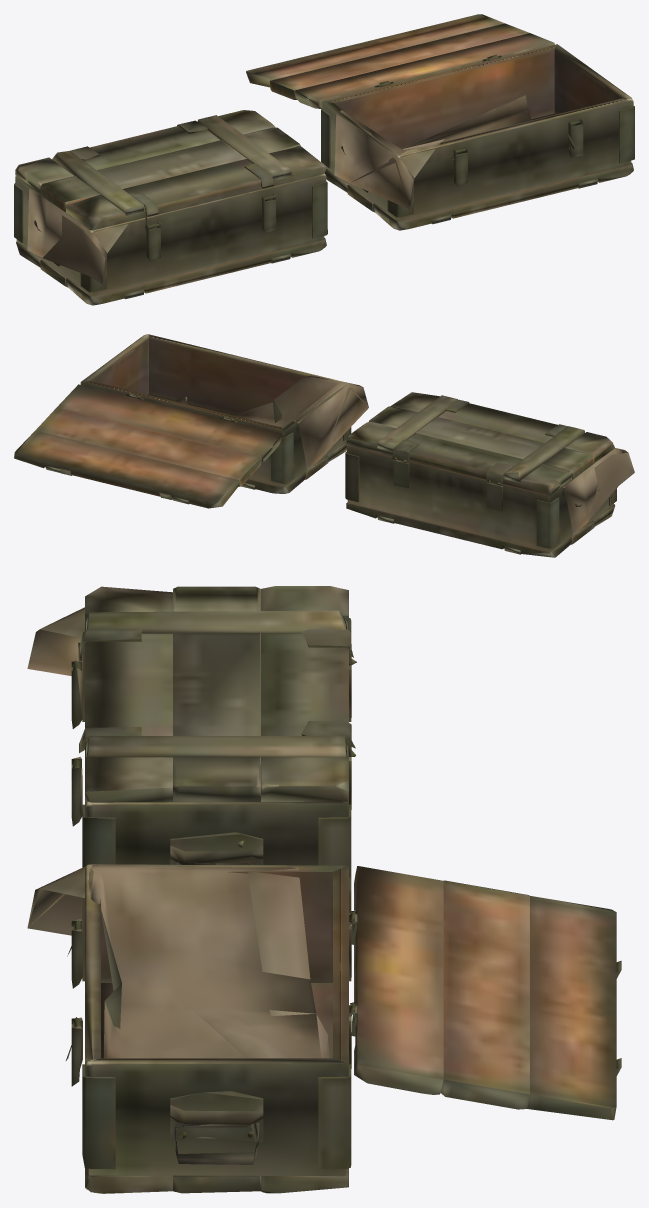
Rendered from old_military_crate_lod2.glb.
3 views of the same model, one above another, from view 1: azimuth 30°, elevation 25°; view 2: azimuth 150°, elevation 25°; view 3: azimuth 270°, elevation 25° (orthographic). The views are drawn at different scales.
Visible parts, largest first — view 1: old_military_crate_lid_a; view 2: old_military_crate_lid_a; view 3: old_military_crate_lid_a.
Boxes of the visible parts, box(x1,y1,x2,y2) form: old_military_crate_lid_a: box(14, 14, 634, 305); old_military_crate_lid_a: box(14, 334, 634, 557); old_military_crate_lid_a: box(27, 586, 621, 1193).
Bounding box in the file's own units: 1.81 × 0.2936 × 0.9676.
1 material, 1 textured.
